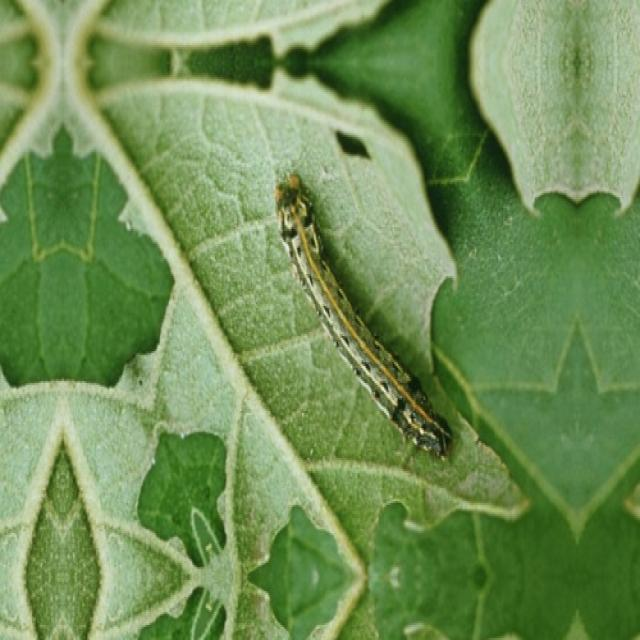armyworm: (273, 171, 453, 460)
